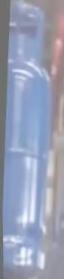cylinder: (0, 1, 64, 279)
